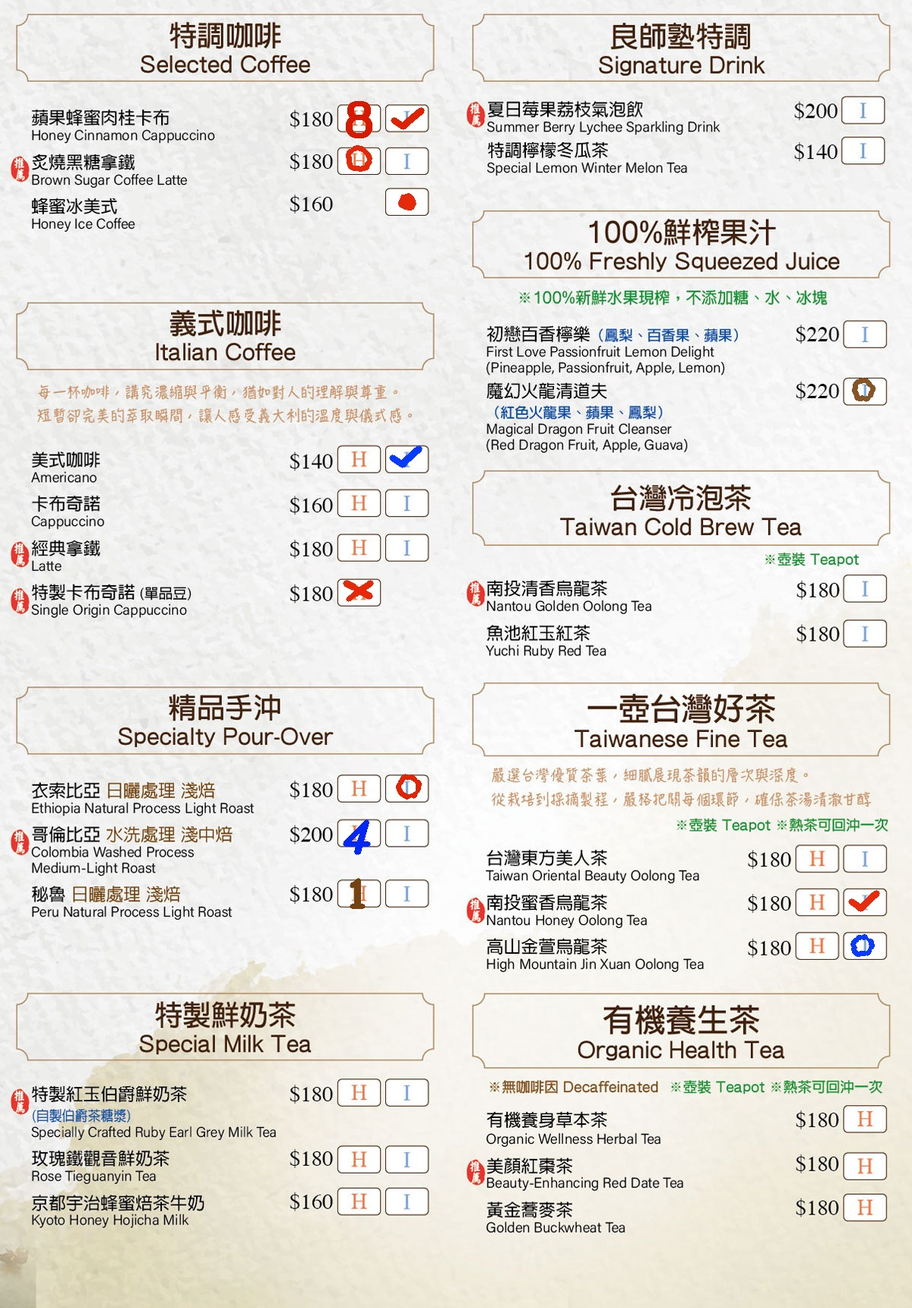marked_circle: (387, 190, 426, 214)
marked_hollow: (844, 934, 883, 958), (342, 149, 381, 173), (845, 378, 884, 402), (387, 775, 426, 799)
marked_number_1: (338, 879, 377, 903)
marked_number_4: (339, 822, 378, 845)
marked_number_8: (339, 106, 378, 129)
marked_tick: (388, 107, 427, 131), (844, 890, 883, 914), (388, 446, 426, 470)
marked_x: (339, 579, 378, 603)
